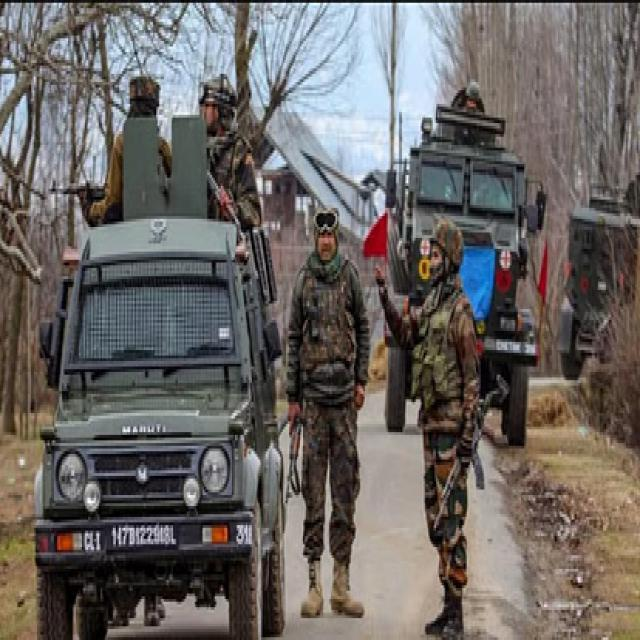military-plate: (108, 522, 176, 549)
unit number: (232, 521, 255, 548)
